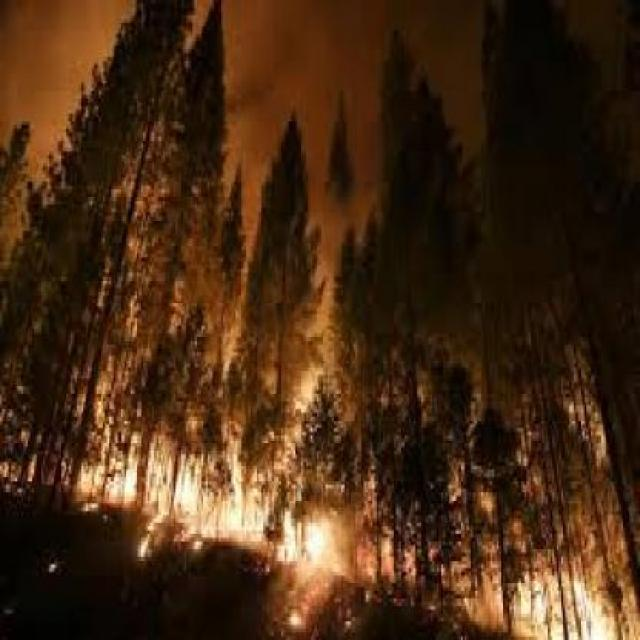Fire: (2, 373, 354, 598), (484, 512, 640, 640)
